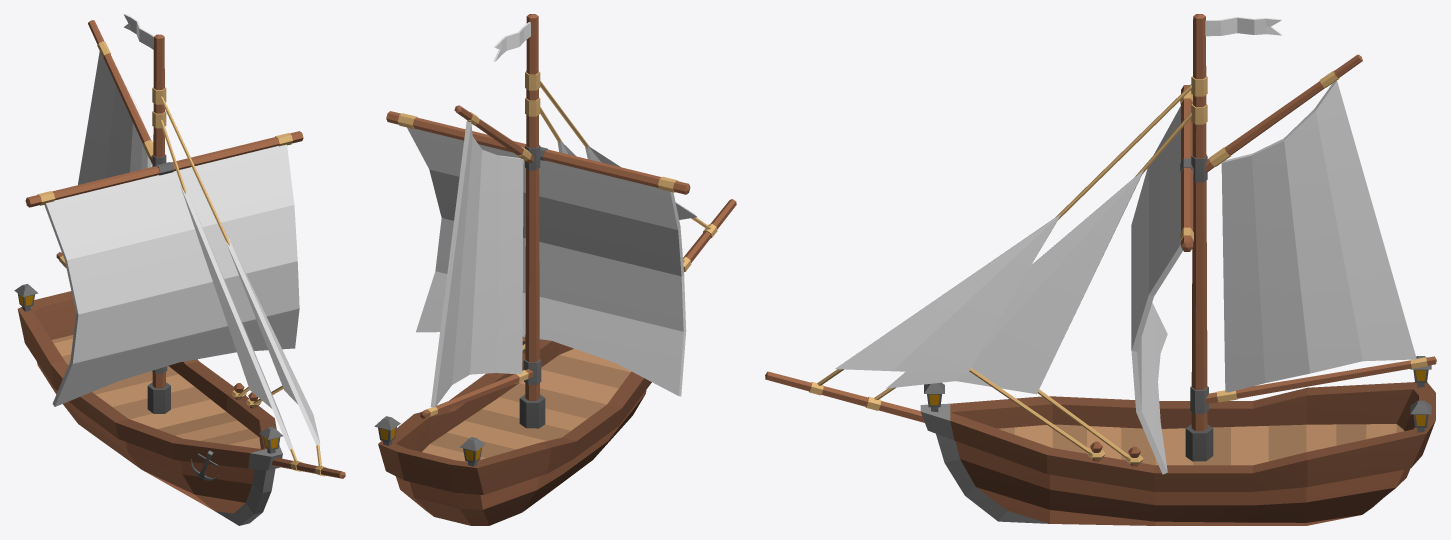
File: ship.glb
3 renders of one model, left to right at view 1: azimuth 30°, elevation 25°; view 2: azimuth 150°, elevation 25°; view 3: azimuth 270°, elevation 25°, orthographic. The views are drawn at different scales.
Visible parts, largest first — view 1: ship; view 2: ship; view 3: ship.
Boxes of the visible parts, x1,y1,x2,y2 form: ship: [14, 14, 345, 525]; ship: [374, 14, 736, 525]; ship: [765, 14, 1436, 525].
Bounding box in the file's own units: 15.22 × 22.69 × 27.21.
Materials: 1 (1 with a texture image).
